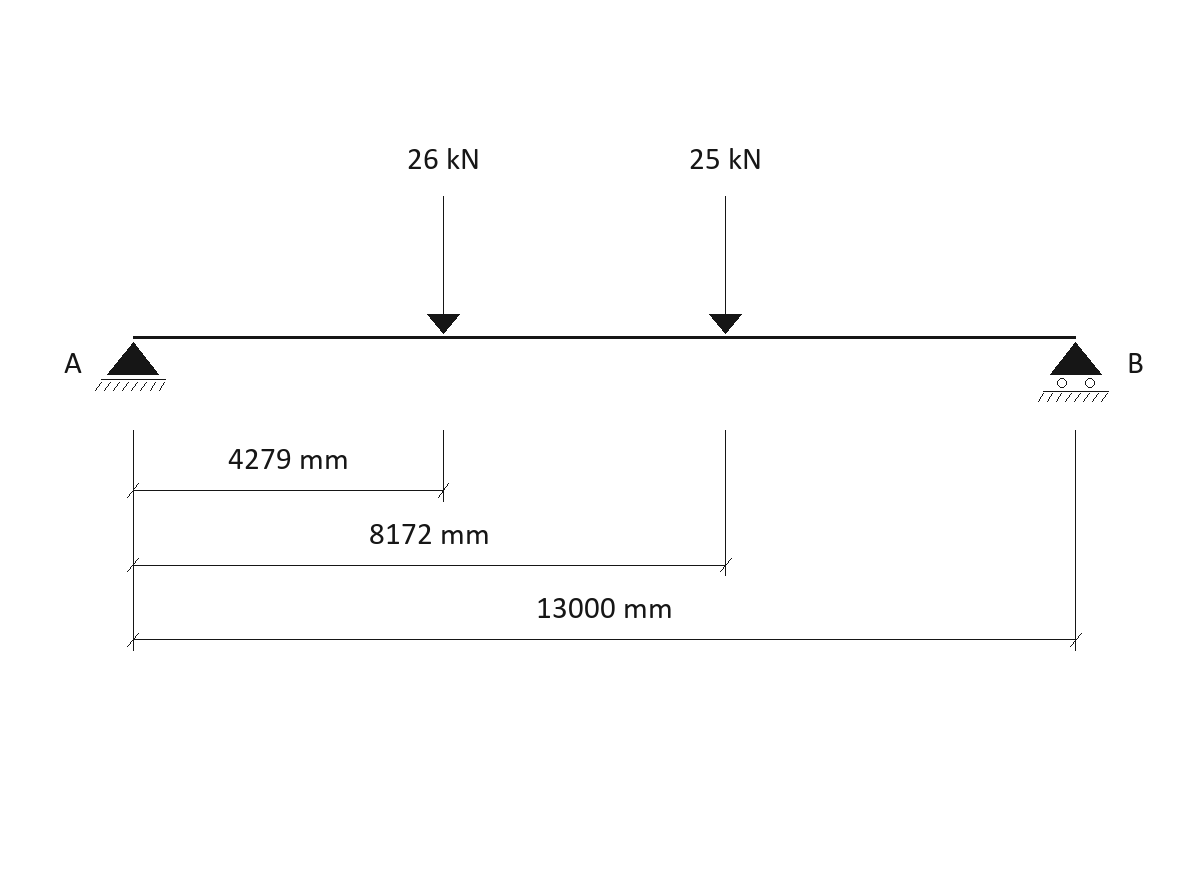pin_support: (95, 342, 166, 391)
point_load: (427, 196, 460, 334), (709, 196, 742, 334)
roller_support: (1038, 342, 1109, 402)
